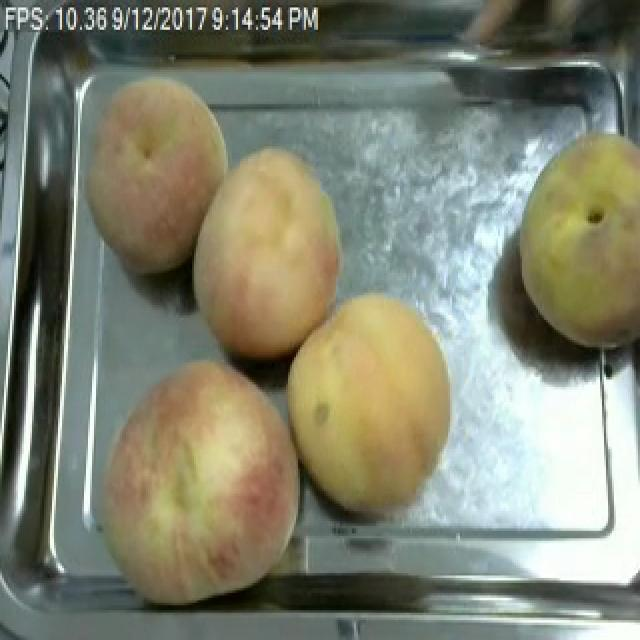Fruit: (74, 347, 318, 615), (274, 283, 462, 523), (180, 139, 352, 370), (70, 64, 238, 283), (506, 114, 640, 362)
